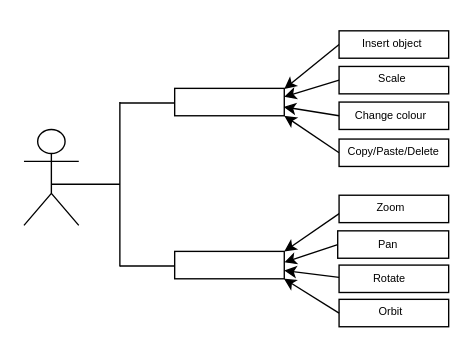
This 473x353 diagram has some shape labels left out. The centre of each missing label's shape, as x and y in pixels:
"Navigation" belongs at pixel 228 264.
"Object Manipulation" belongs at pixel 228 101.
"User" belongs at pixel 51 176.
